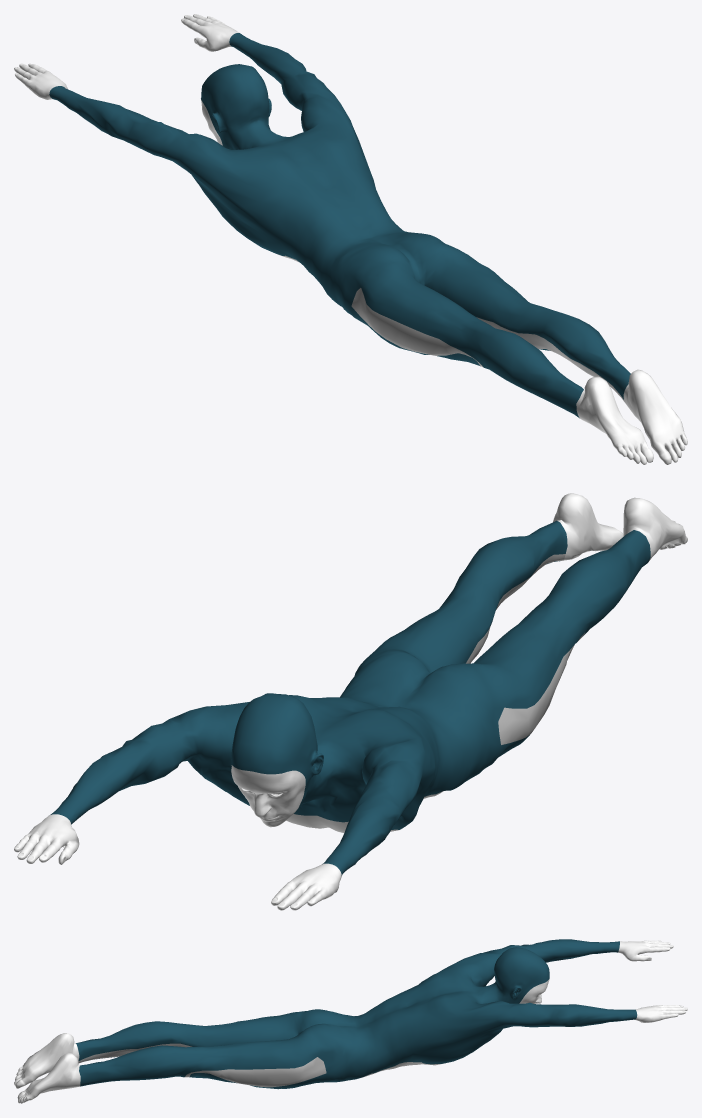
Rendered from daniel_ritchie.glb.
The picture shows the model from 3 angles, top to bottom: view 1: azimuth 30°, elevation 25°; view 2: azimuth 150°, elevation 25°; view 3: azimuth 270°, elevation 25°; orthographic projection. The views are drawn at different scales.
Parts seen in each view (by area): view 1: male_muscle_13290Mesh.001; view 2: male_muscle_13290Mesh.001; view 3: male_muscle_13290Mesh.001.
Boxes of the visible parts, x1=… form: male_muscle_13290Mesh.001: x1=14, y1=14, x2=687, y2=464; male_muscle_13290Mesh.001: x1=14, y1=493, x2=687, y2=910; male_muscle_13290Mesh.001: x1=14, y1=939, x2=687, y2=1103.
Size of the model in its own units: 1.4 by 0.938 by 4.76.
